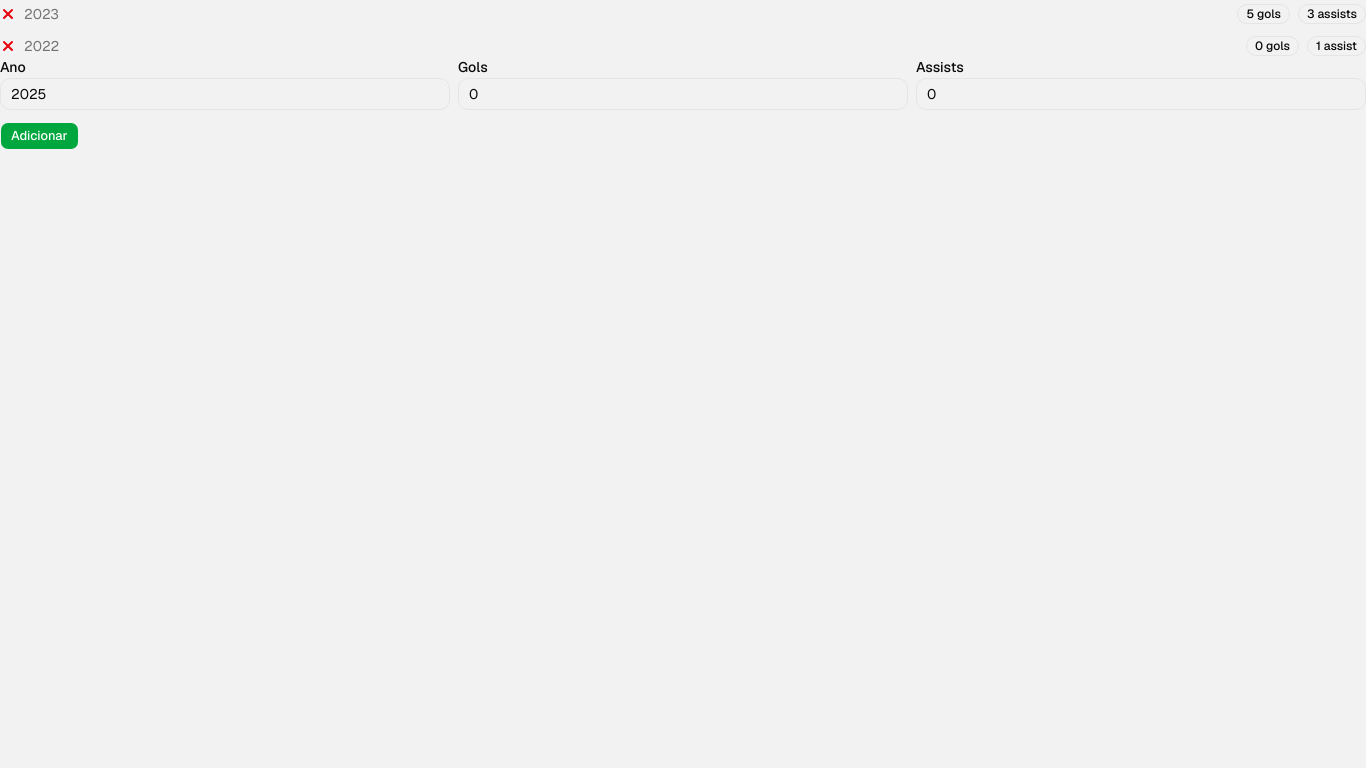
Test: RetroactiveStatForm › delete stat › shows 'Removendo...' and disables buttons during delete
The image size is (1366, 768).
Click the button named "Remover lançamento" next to "2023" at (8,14), box [0, 6, 16, 22]
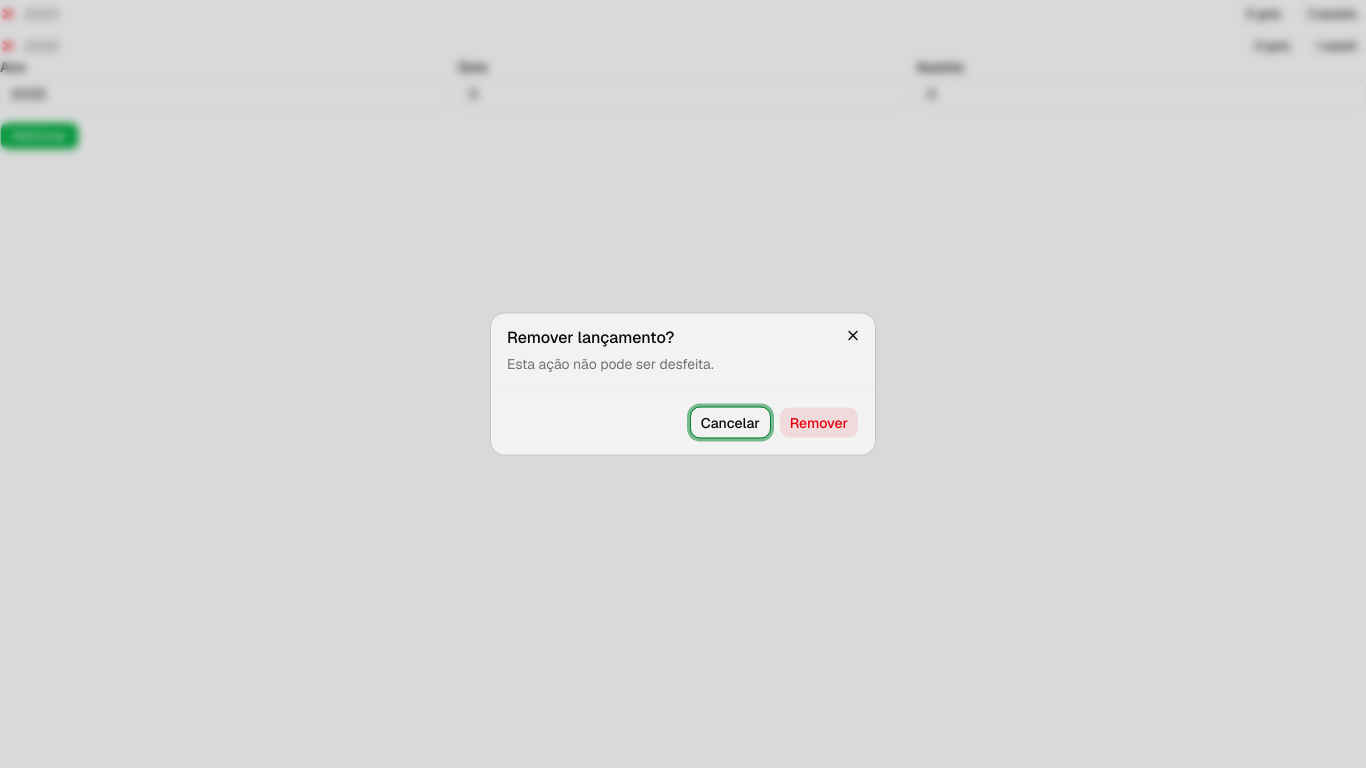
Click the button "Remover" at (819,422), box [779, 406, 859, 438]
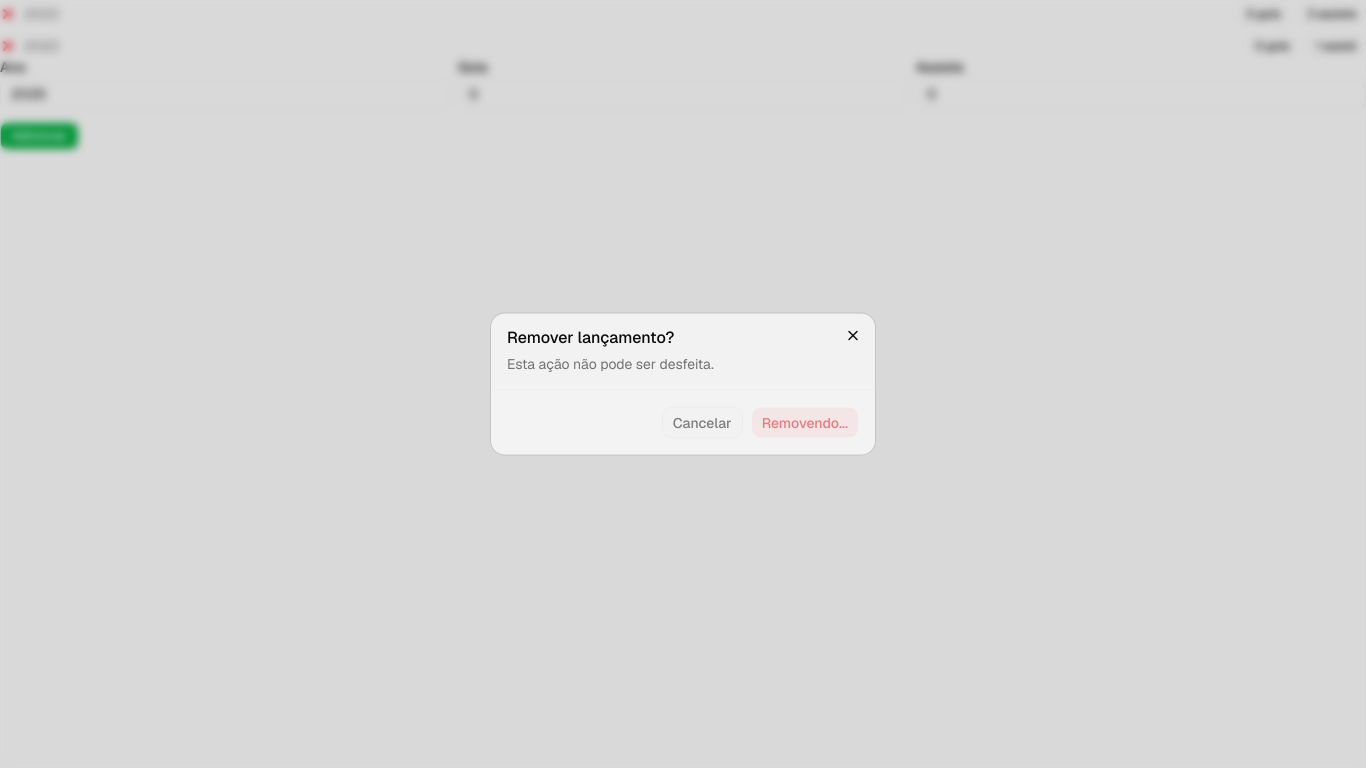
Check: the button "Removendo..." is disabled, box [751, 406, 859, 438]
Check: the button "Cancelar" is disabled, box [662, 406, 743, 438]
